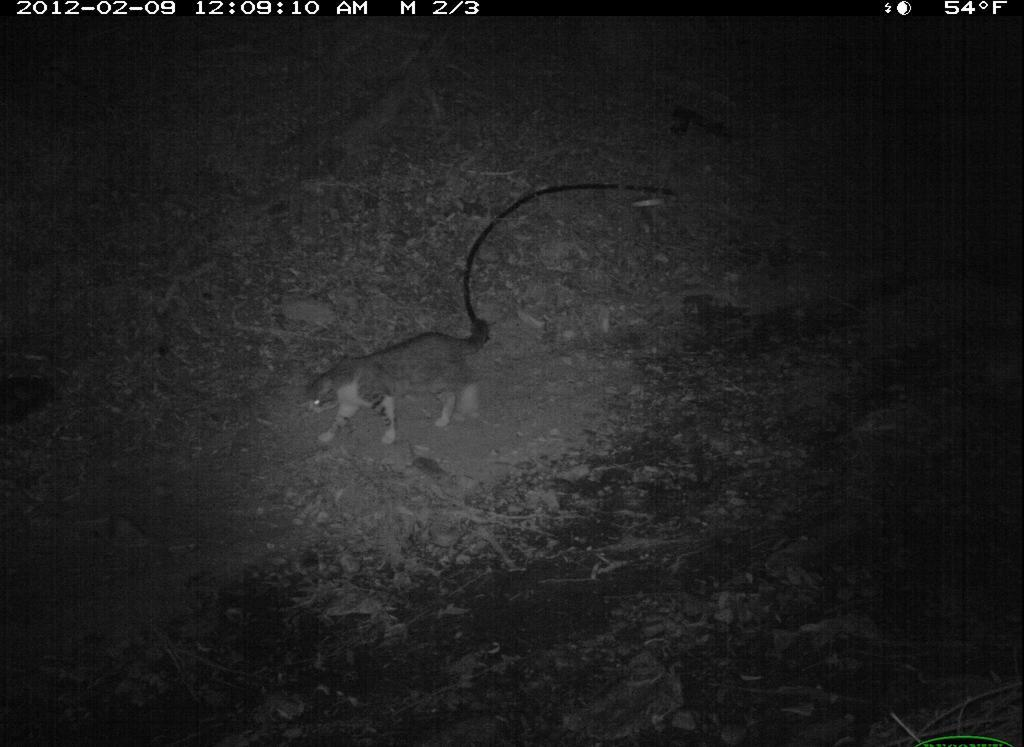cat: (286, 306, 498, 468)
